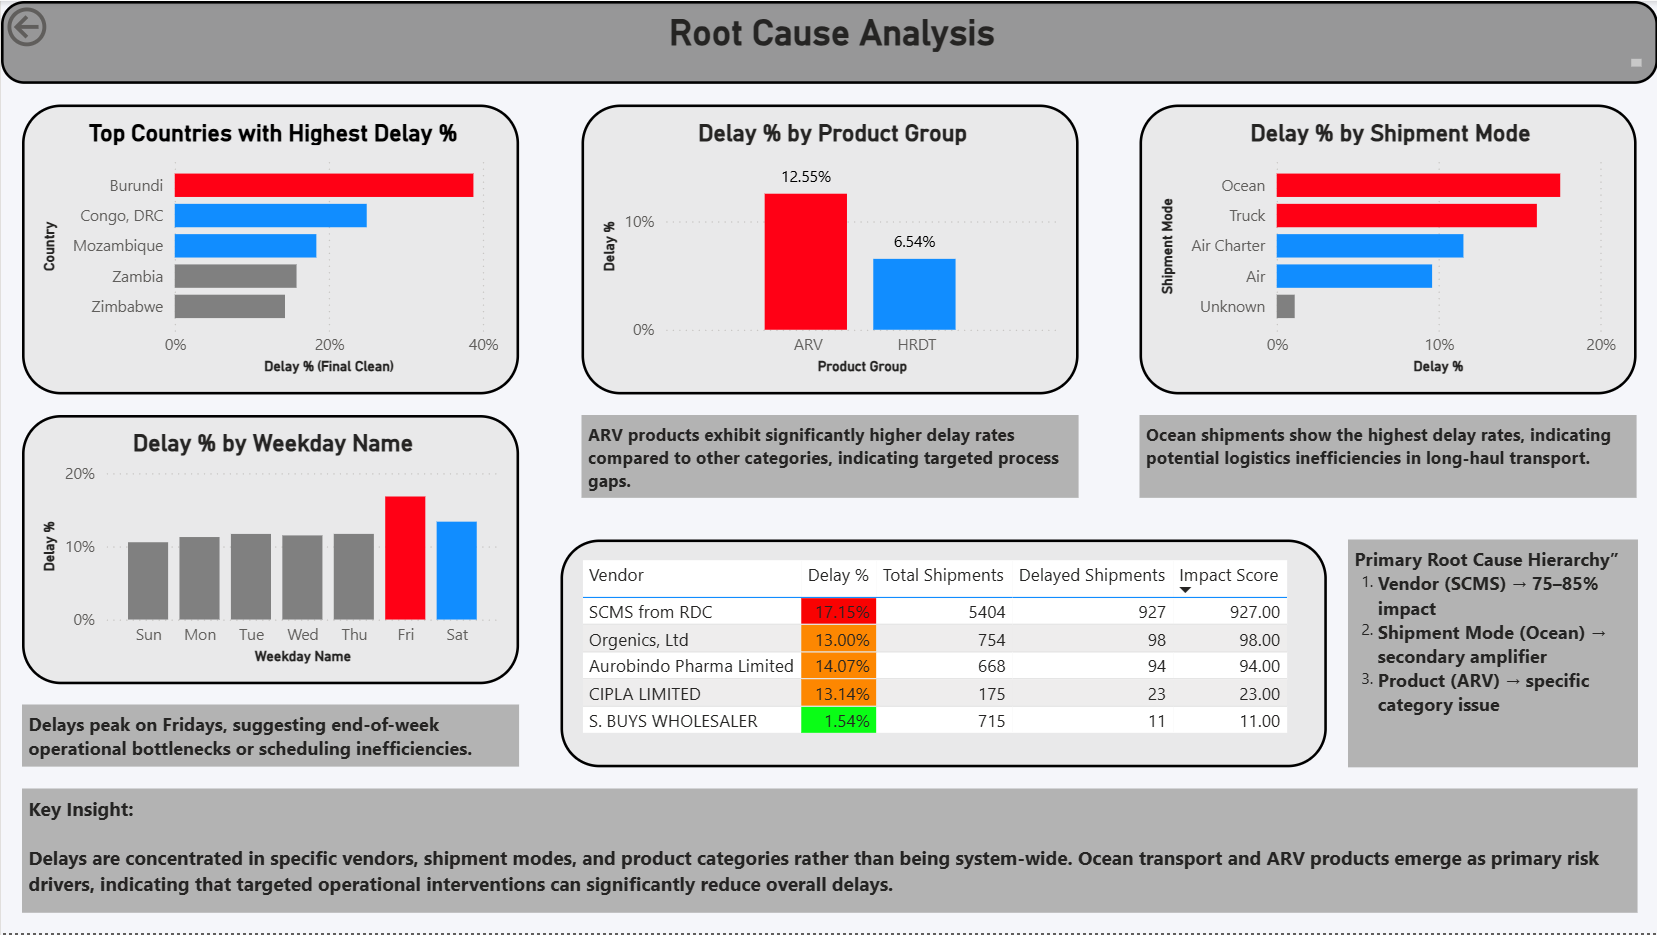

What the dashboard file says about the page in this screenshot:
{"tool":"powerbi","page":{"name":"RootCauseAnalysis","canvas":[1280,720],"ordinal":1},"visuals":[{"type":"textbox","title":"Root Cause Analysis","box":[0,0,1280,64],"z":0},{"type":"barChart","title":"Top Countries with Highest Delay %","fields":{"Category":["final_dashboard_data.Country"],"Y":["final_dashboard_data.Delay % (Final Clean)"]},"box":[16,80,384,224],"z":1000},{"type":"actionButton","box":[0,0,100,40],"z":2000},{"type":"barChart","title":"Delay % by Shipment Mode","fields":{"Category":["final_dashboard_data.Shipment Mode"],"Y":["final_dashboard_data.Delay %"]},"box":[880,80,384,224],"z":3000},{"type":"tableEx","fields":{"Values":["final_dashboard_data.Vendor","final_dashboard_data.Delay %","final_dashboard_data.Total Shipments","RiskTable.Delayed Shipments","RiskTable.Impact Score"]},"box":[432,416,592,176],"z":4000},{"type":"clusteredColumnChart","fields":{"Category":["final_dashboard_data.Product Group"],"Y":["final_dashboard_data.Delay %"]},"box":[448,80,384,224],"z":5000},{"type":"columnChart","fields":{"Category":["final_dashboard_data.Weekday Name"],"Y":["final_dashboard_data.Delay %"]},"box":[16,320,384,208],"z":6000},{"type":"textbox","box":[880,320,384,64],"z":7000},{"type":"textbox","box":[16,544,384,48],"z":8000},{"type":"textbox","box":[448,320,384,64],"z":9000},{"type":"textbox","box":[16,608,1248,96],"z":10000},{"type":"textbox","box":[1040,416,224,176],"z":11000}]}

Visuals, with their boxes in screenshot pixels (x1, y1, x2, y2), scaled from the page's 1280x720 canvas onto the 1657x935 screenshot:
"Root Cause Analysis" textbox: detection(0, 0, 1656, 83)
"Top Countries with Highest Delay %" barChart: detection(21, 104, 518, 395)
actionButton: detection(0, 0, 129, 52)
"Delay % by Shipment Mode" barChart: detection(1139, 104, 1636, 395)
tableEx - final_dashboard_data.Vendor x final_dashboard_data.Delay %: detection(559, 540, 1326, 769)
clusteredColumnChart - final_dashboard_data.Product Group x final_dashboard_data.Delay %: detection(580, 104, 1077, 395)
columnChart - final_dashboard_data.Weekday Name x final_dashboard_data.Delay %: detection(21, 416, 518, 686)
textbox: detection(1139, 416, 1636, 499)
textbox: detection(21, 706, 518, 769)
textbox: detection(580, 416, 1077, 499)
textbox: detection(21, 790, 1636, 914)
textbox: detection(1346, 540, 1636, 769)
